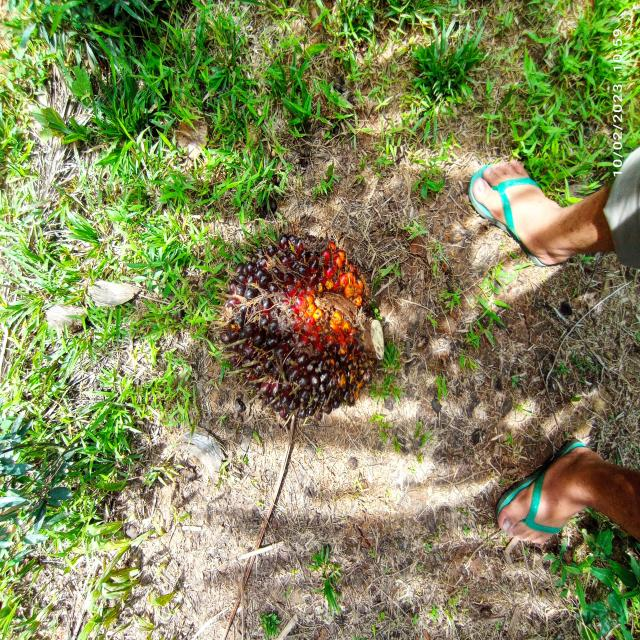fraksi 1: (199, 224, 392, 434)
